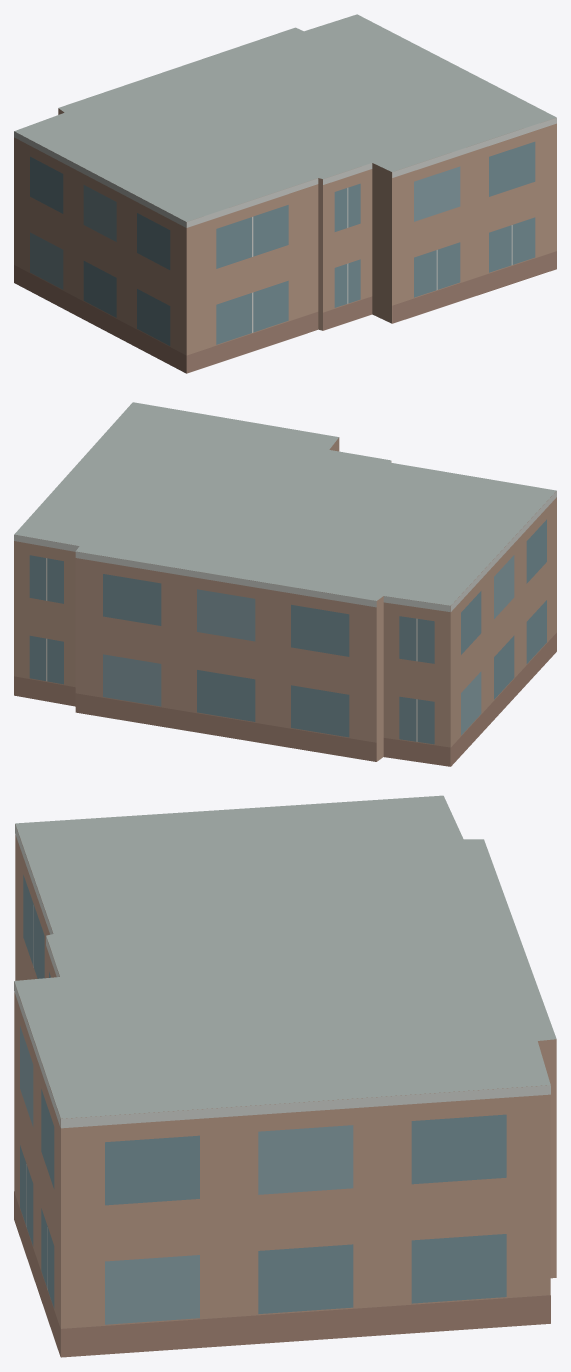
Rendered from survey-upis-32655615.glb.
3 renders of one model, top to bottom at view 1: azimuth 30°, elevation 25°; view 2: azimuth 150°, elevation 25°; view 3: azimuth 270°, elevation 25°, orthographic. The views are drawn at different scales.
Parts seen in each view (by area): view 1: survey-upis-32655615.tmp; view 2: survey-upis-32655615.tmp; view 3: survey-upis-32655615.tmp.
Part boxes in pixels (x1,y1,x2,y2): survey-upis-32655615.tmp: (14, 14, 556, 373); survey-upis-32655615.tmp: (14, 402, 556, 766); survey-upis-32655615.tmp: (14, 795, 556, 1357).
Bounding box in the file's own units: 17.74 × 6.1 × 12.58.
